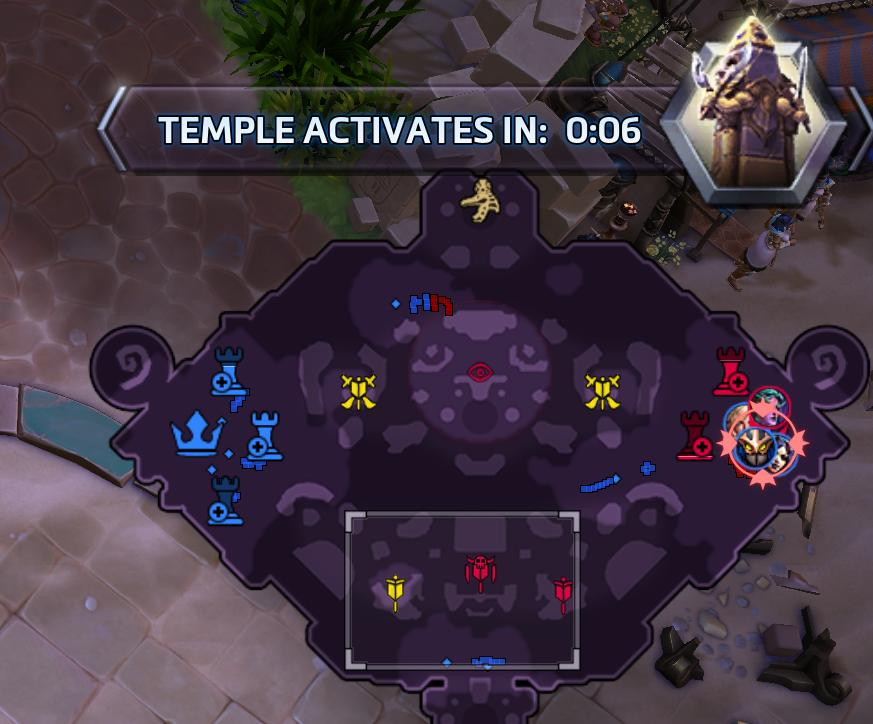blue nexus: (167, 401, 234, 461)
blue player: (731, 425, 774, 468), (760, 435, 796, 475), (722, 401, 753, 438), (754, 402, 782, 427)
blue tower: (205, 341, 255, 402), (203, 470, 249, 529), (242, 409, 284, 466)
red player: (748, 386, 787, 425), (752, 388, 782, 412)
red tower: (675, 408, 714, 460), (711, 346, 749, 397)
